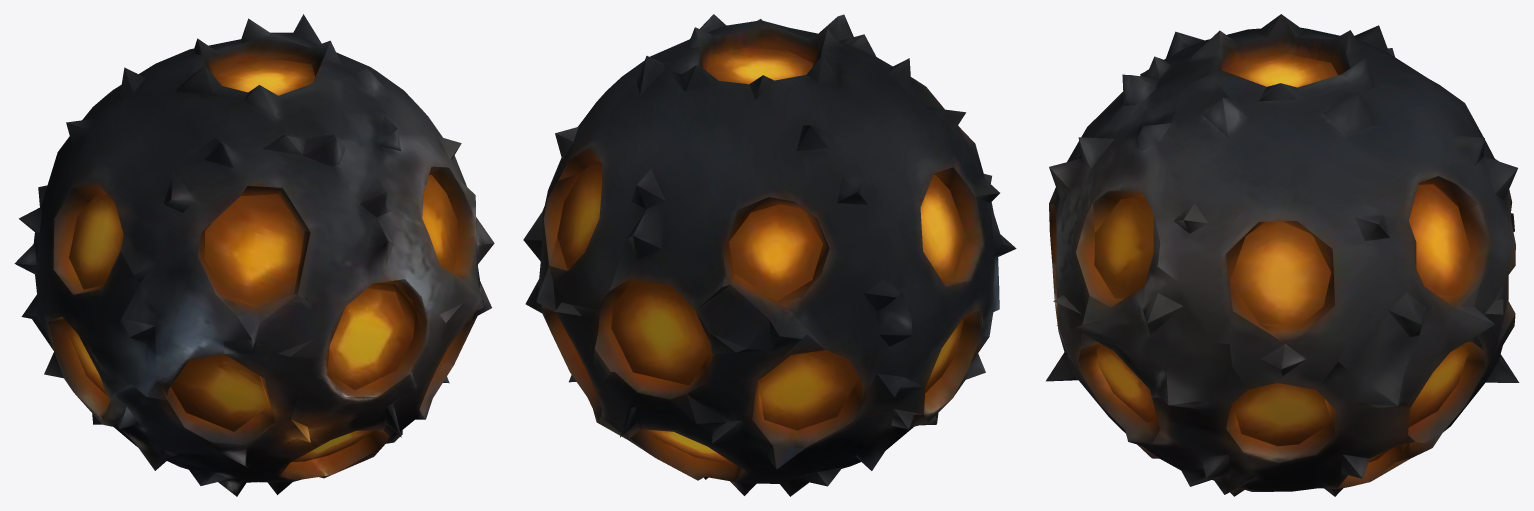
File: spikedBall.glb
3 views of the same model, side by side, from view 1: azimuth 30°, elevation 25°; view 2: azimuth 150°, elevation 25°; view 3: azimuth 270°, elevation 25° (orthographic). The views are drawn at different scales.
Visible parts, largest first — view 1: model; view 2: model; view 3: model.
Part boxes in pixels (box(x1,y1,x2,y2)): model: box(14, 14, 494, 496); model: box(523, 14, 1016, 496); model: box(1046, 14, 1519, 496).
Bounding box in the file's own units: 1.9 × 1.92 × 1.87.
1 material, 1 textured.
